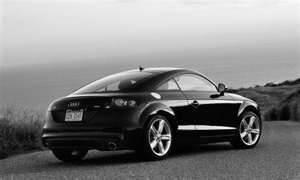car: (40, 66, 269, 164)
